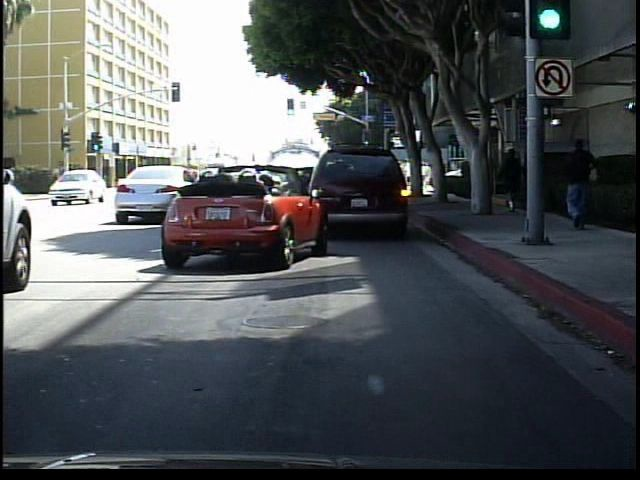person: (559, 132, 606, 239), (498, 140, 526, 213)
